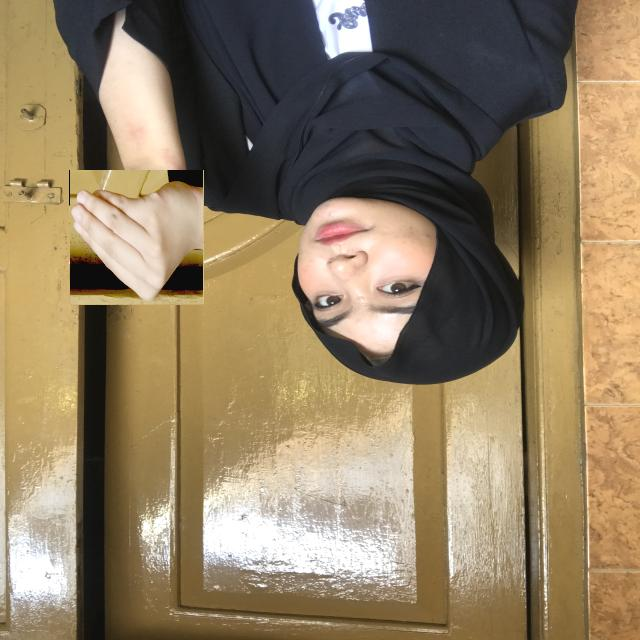kapan: (69, 170, 204, 304)
